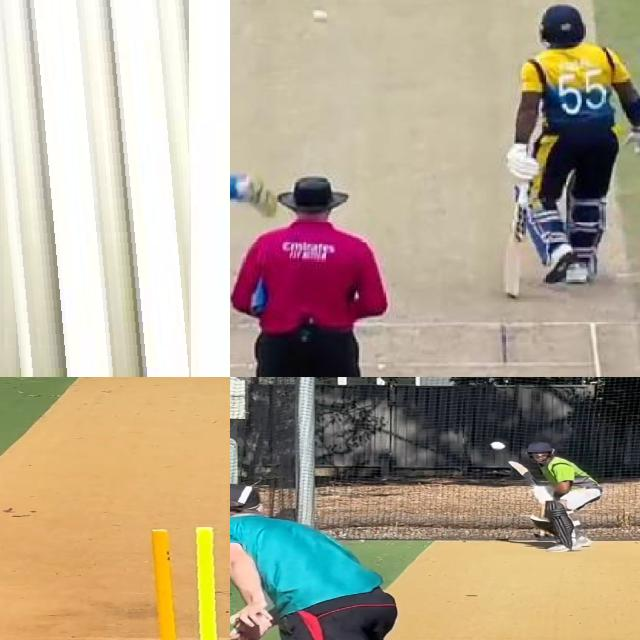Cricket ball: (310, 8, 329, 26), (487, 439, 506, 451)
Stumps: (0, 0, 188, 377), (127, 526, 230, 640)
